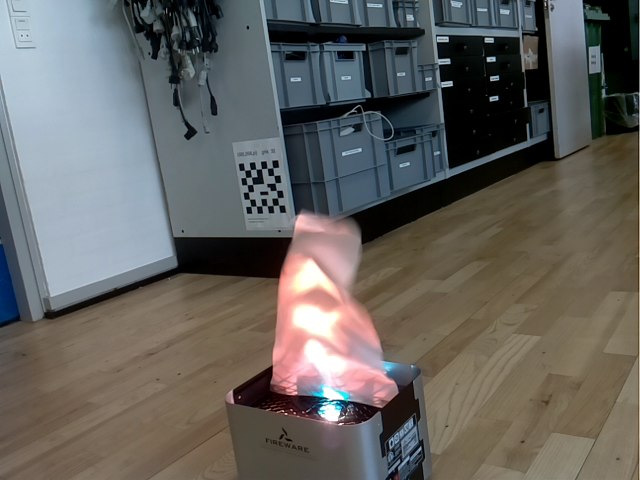fire: (269, 208, 399, 408)
